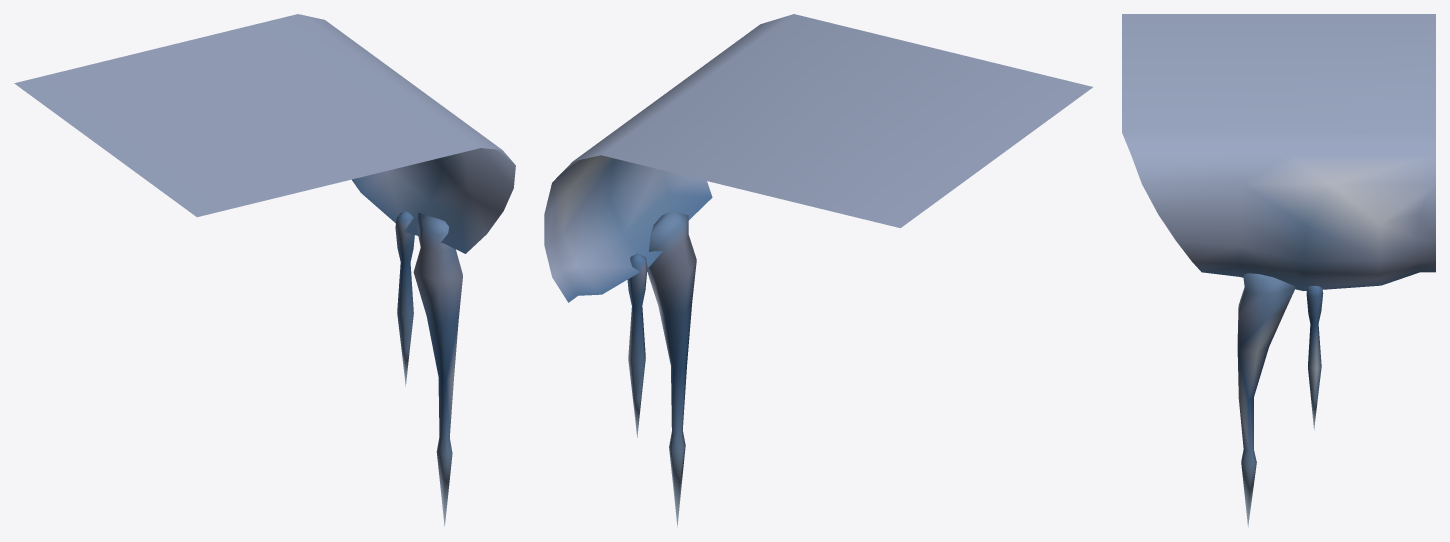
File: Surface_SideUpCorner.fbx
3 views of the same model, side by side, from view 1: azimuth 30°, elevation 25°; view 2: azimuth 150°, elevation 25°; view 3: azimuth 270°, elevation 25° (orthographic). The views are drawn at different scales.
Visible parts, largest first — view 1: Surface_SideUpCorner; view 2: Surface_SideUpCorner; view 3: Surface_SideUpCorner.
Boxes of the visible parts, bbox=[...] form: Surface_SideUpCorner: bbox=[14, 14, 515, 526]; Surface_SideUpCorner: bbox=[544, 14, 1092, 527]; Surface_SideUpCorner: bbox=[1122, 14, 1435, 527].
Size of the model in its own units: 2223 by 2669 by 2000.
